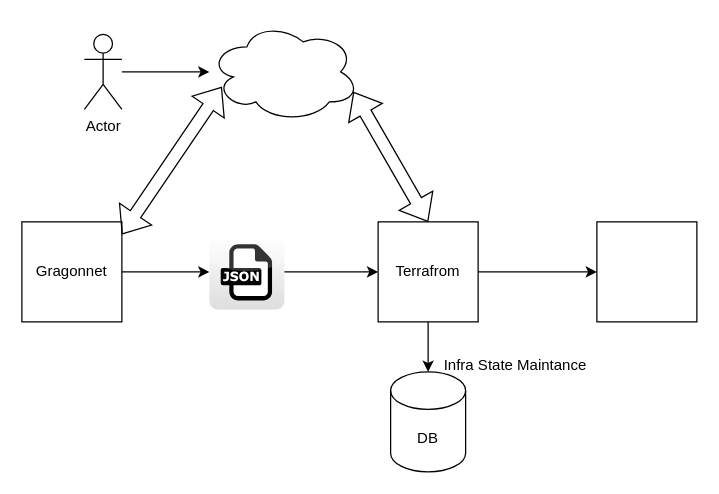
Image size: 719x494. Some labels were removed from this diagram. Each missing label, with the box of its shape:
Gateway: (208, 21, 359, 122)
Grafana: (596, 221, 697, 322)
